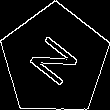N_SE: (24, 29, 86, 92)
